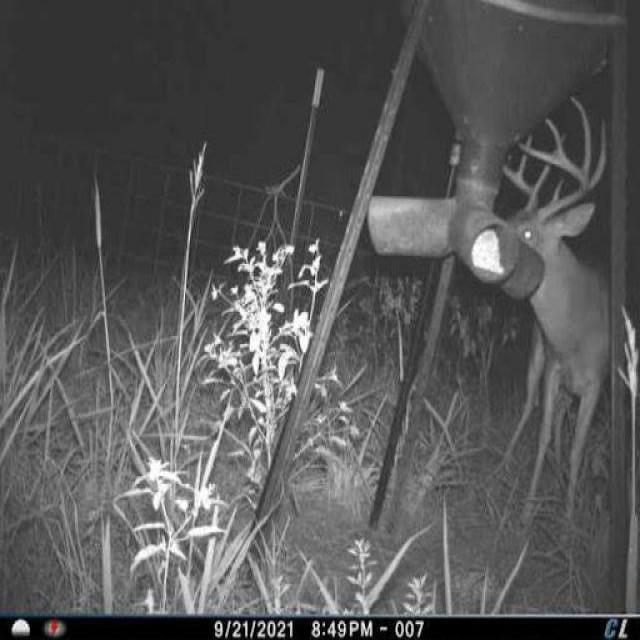deer: (479, 85, 615, 528)
